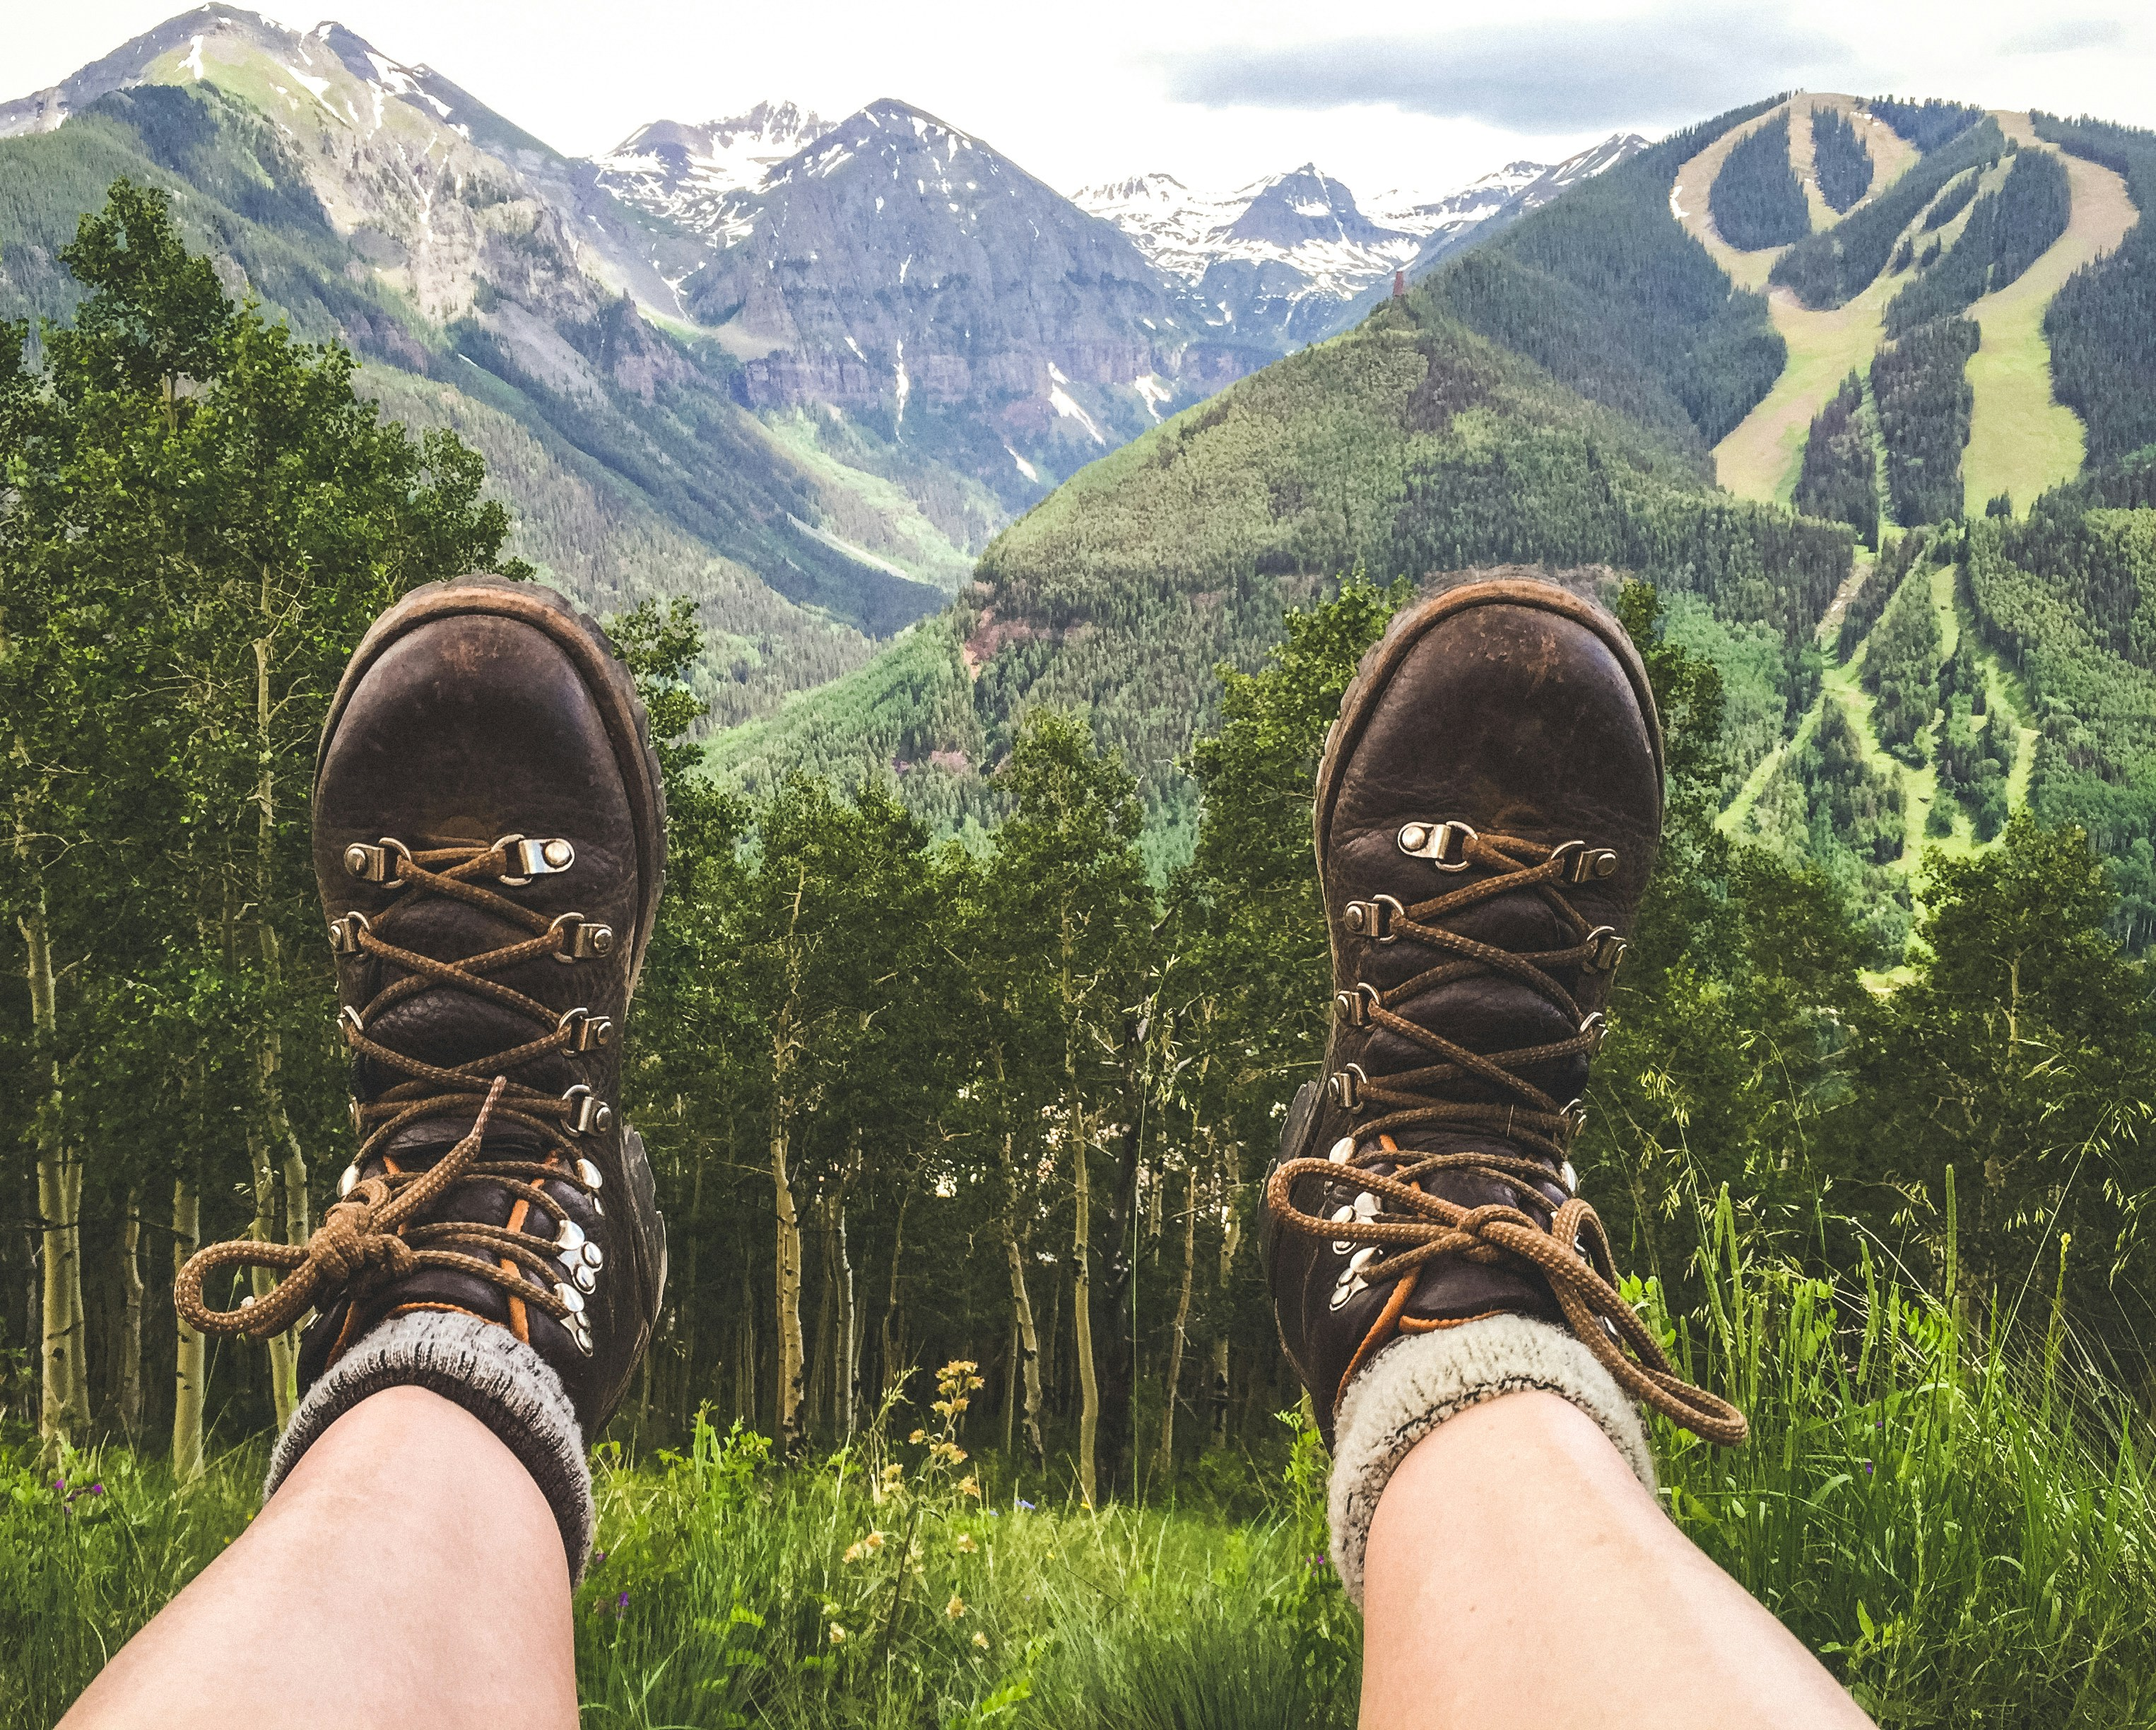Footwear: (134, 567, 702, 1393), (1281, 568, 1676, 1368)
